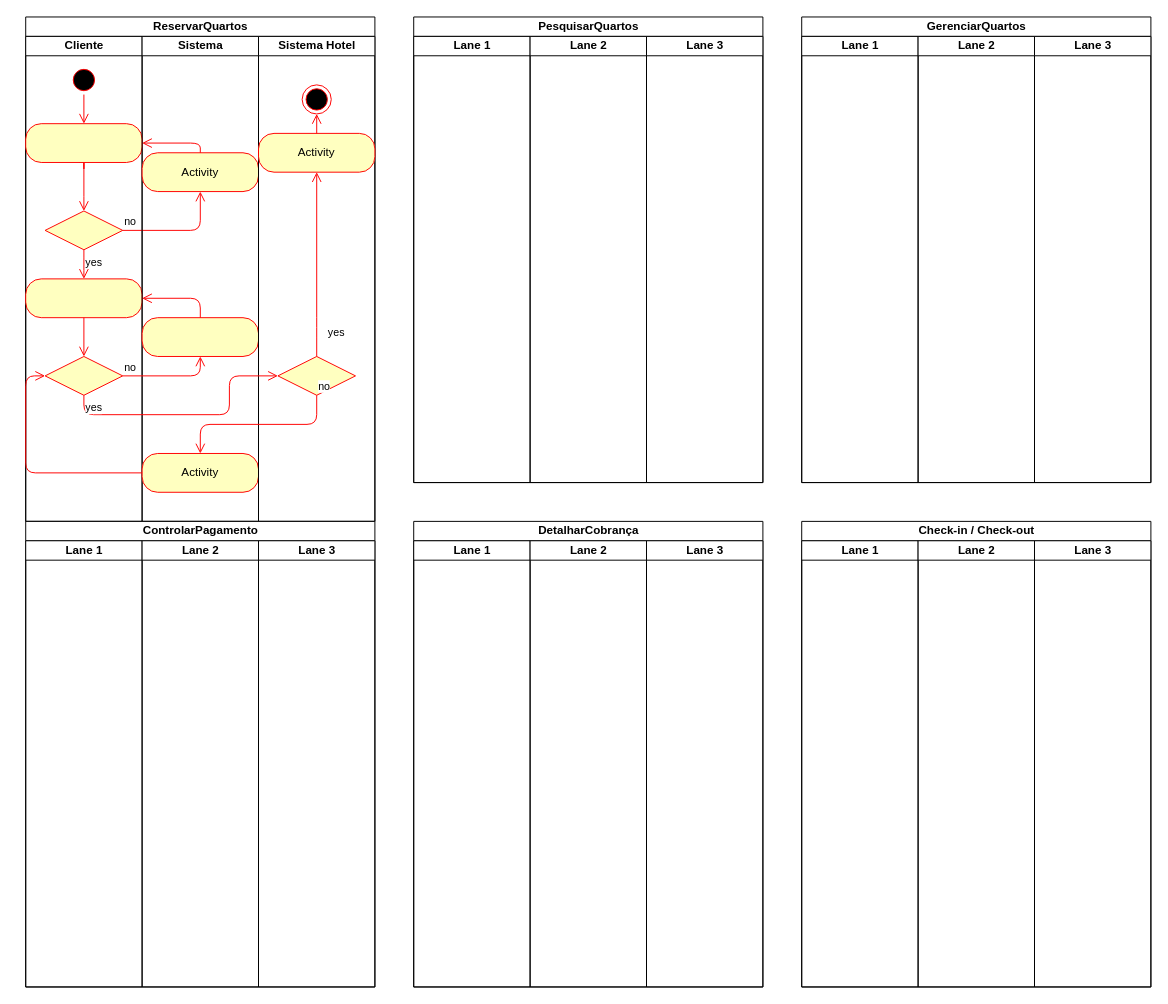
The diagram is 1168 pixels wide and 1004 high, and some of its shapes have lost their labels. The shapes that lost their labels are listed below. From the top down, each one's centre as x and y in pixels, then its label:
At (83,142): "Cliente possui cadastro?".
At (83,230): "Verificar Cadastro".
At (83,298): "Escolha de quarto pelo cliente".
At (200,336): "Mostrar opçoes".
At (83,375): "Verificar Escolha".
At (316,375): "Condition".
